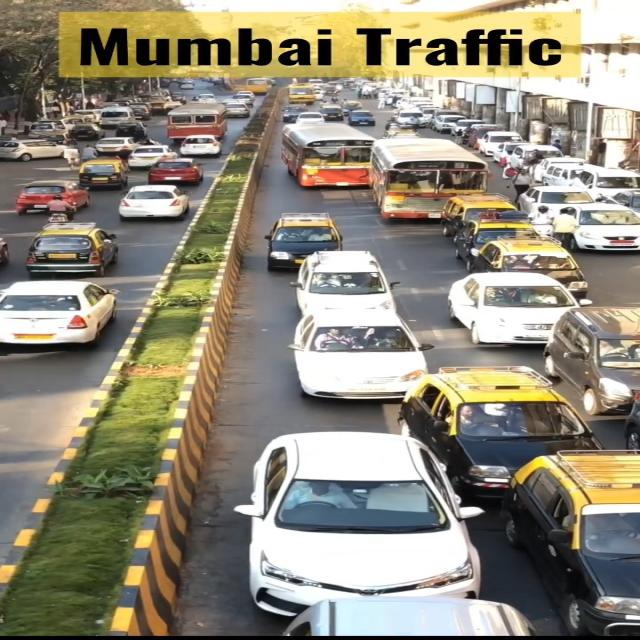Taxi: (524, 457, 640, 640), (402, 373, 601, 468), (18, 220, 127, 279)
